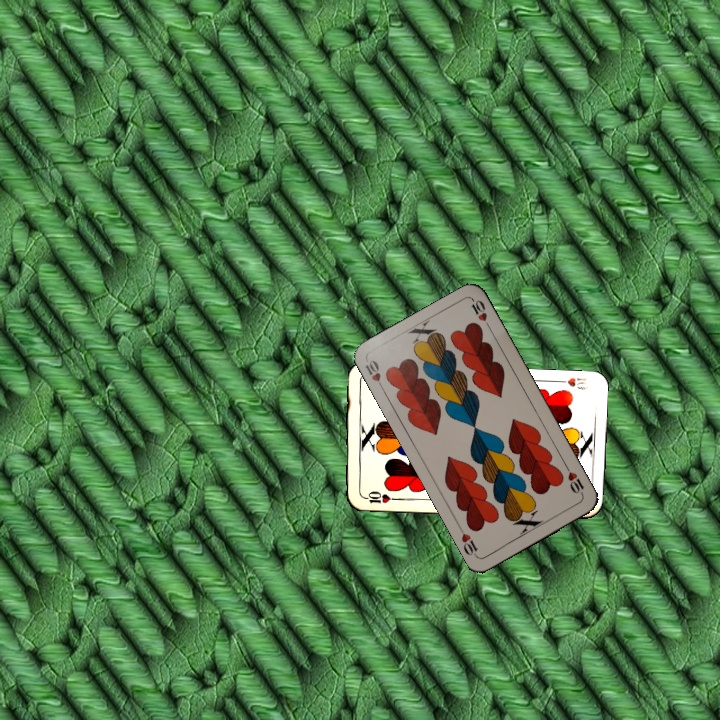H10: (561, 461, 587, 499), (361, 356, 387, 394), (358, 487, 399, 506), (551, 373, 590, 392)
